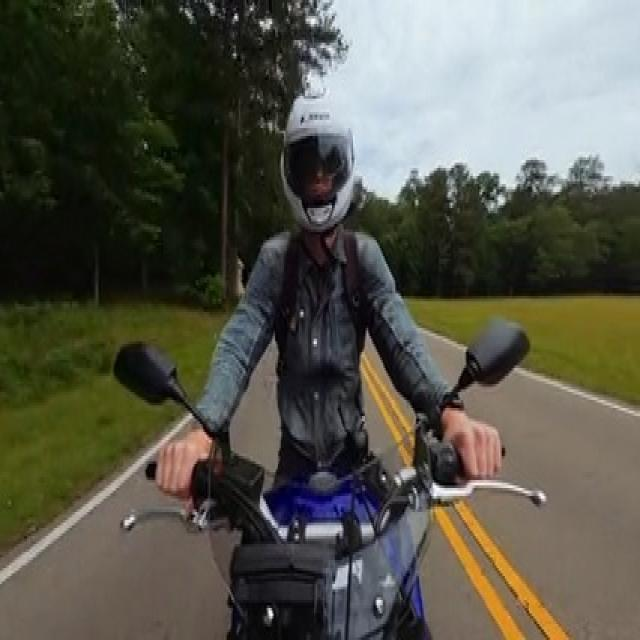Helmet_Wearer: (274, 66, 366, 230)
Person: (171, 76, 499, 481)
